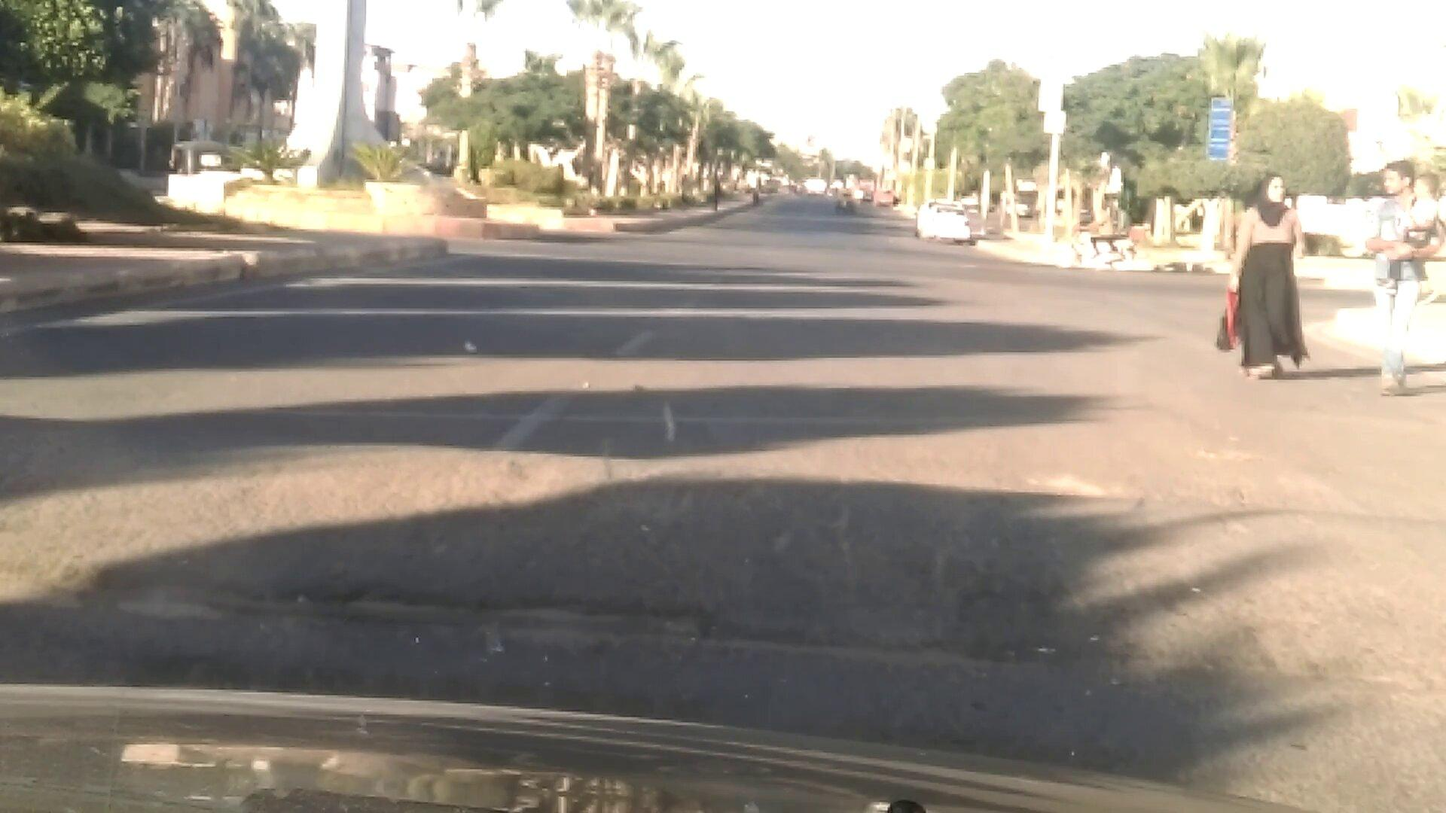Pothole: (137, 536, 1327, 706)
